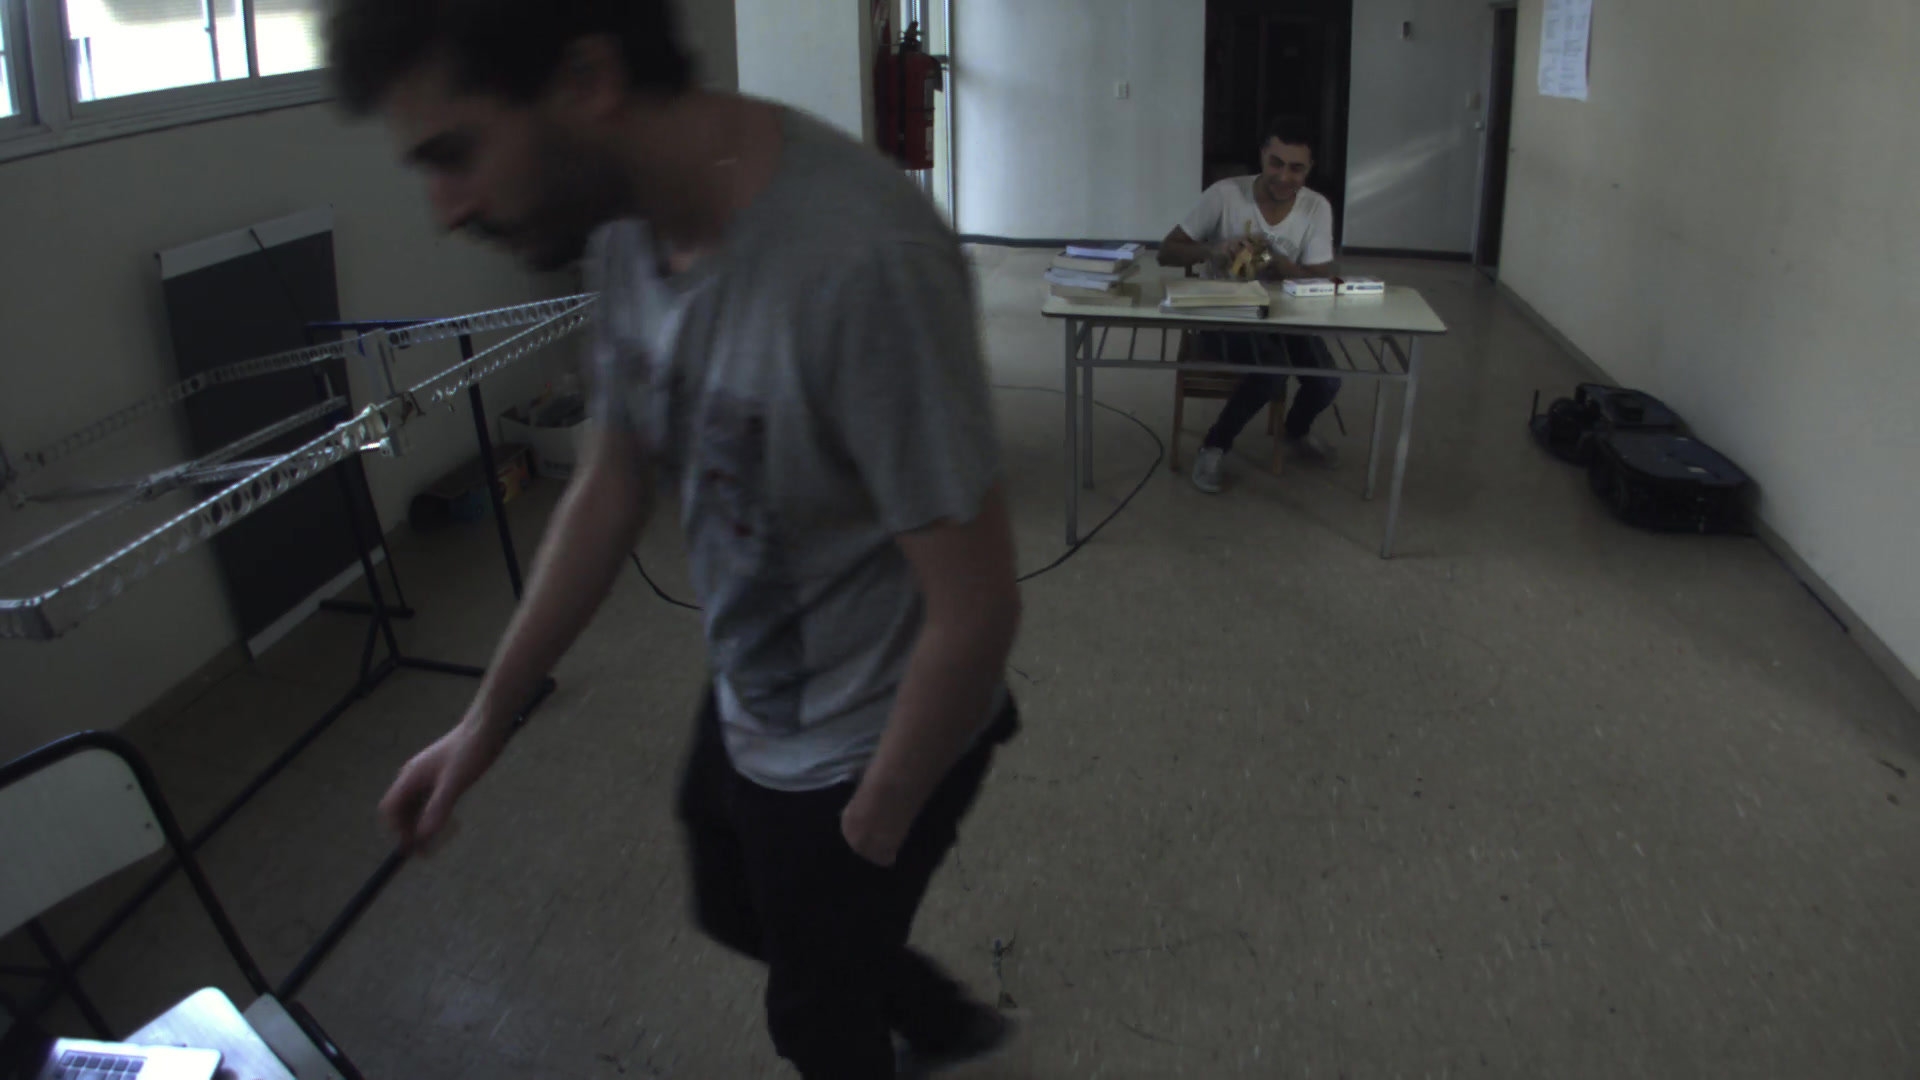hand: (363, 713, 495, 853)
